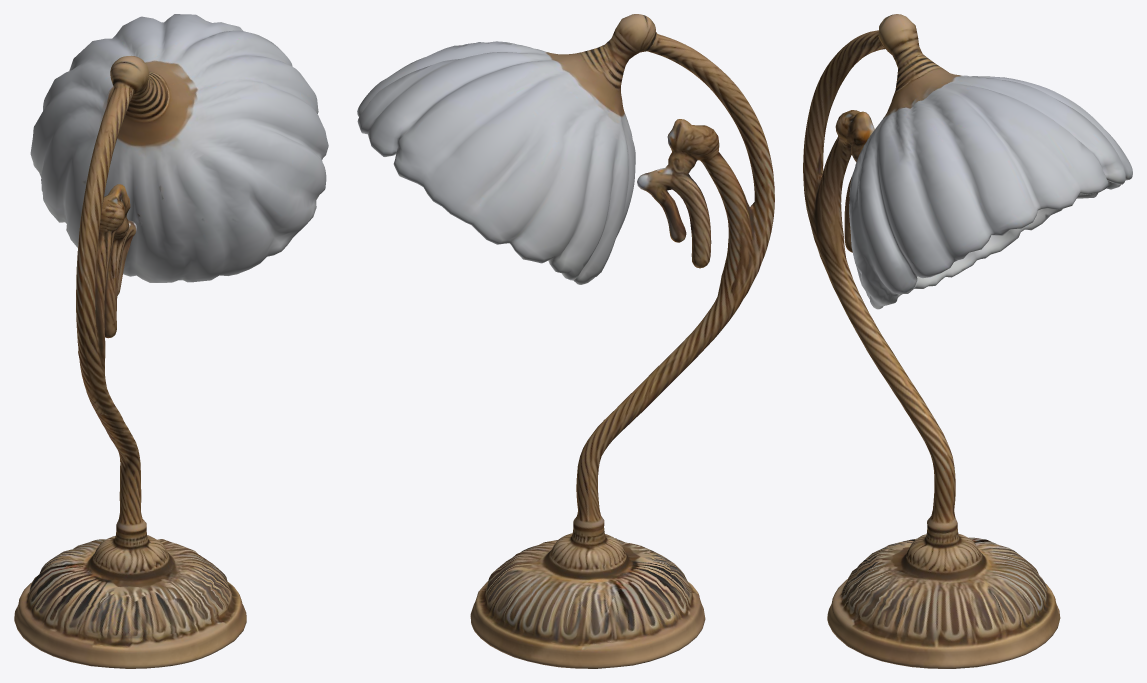
File: swan-lamp.fbx
3 renders of one model, left to right at view 1: azimuth 30°, elevation 25°; view 2: azimuth 150°, elevation 25°; view 3: azimuth 270°, elevation 25°, orthographic.
Parts seen in each view (by area): view 1: tripo_node_e2043165-2111-495a-a17e-9aee1706efc8; view 2: tripo_node_e2043165-2111-495a-a17e-9aee1706efc8; view 3: tripo_node_e2043165-2111-495a-a17e-9aee1706efc8.
Boxes of the visible parts, left/top/right/bottom form: tripo_node_e2043165-2111-495a-a17e-9aee1706efc8: left=14, top=14, right=328, bottom=668; tripo_node_e2043165-2111-495a-a17e-9aee1706efc8: left=357, top=14, right=774, bottom=668; tripo_node_e2043165-2111-495a-a17e-9aee1706efc8: left=803, top=14, right=1132, bottom=668.
Bounding box in the file's own units: 53.1 × 94.84 × 47.86.
1 material, 1 textured.
